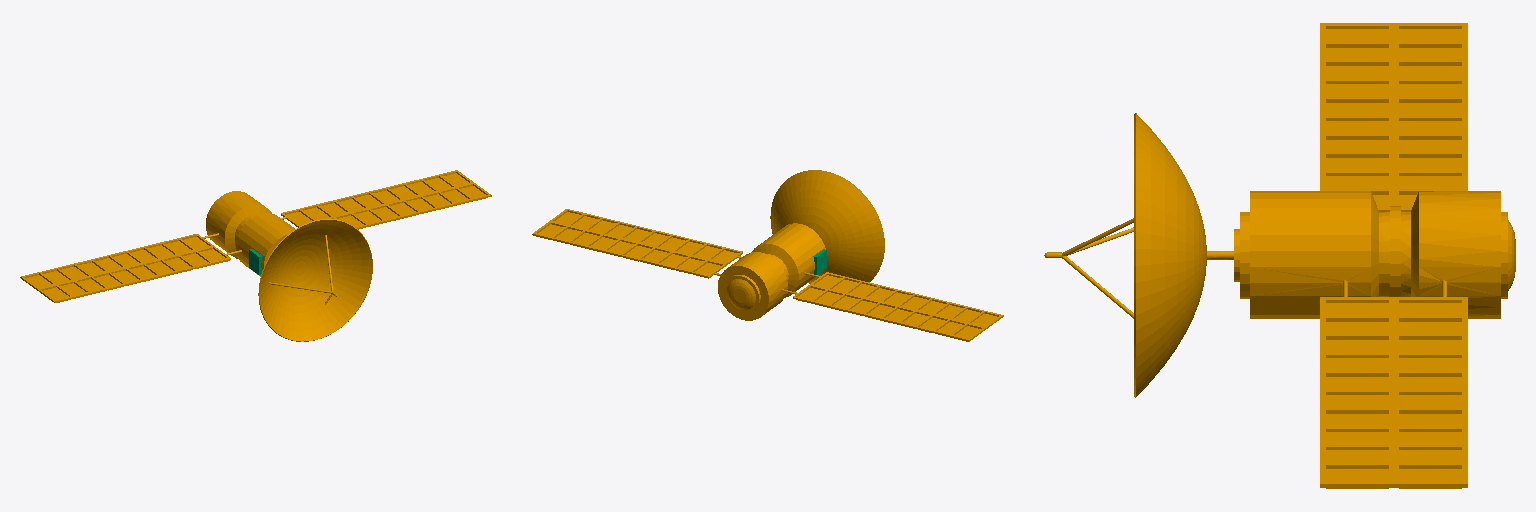
URDF robot description (satellite_14):
<?xml version='1.0' encoding='utf-8'?>
<robot name="satellite_14">
  <link name="base_link">
    <visual>
      <geometry>
        <mesh filename="satellite.stl" />
      </geometry>
    </visual>
    <collision>
      <geometry>
        <mesh filename="satellite.stl" />
      </geometry>
    </collision>
  </link>
  <link name="satellite_14_mount" />
  <joint name="satellite_mount_fixed" type="fixed">
    <parent link="base_link" />
    <child link="satellite_14_mount" />
    <origin xyz="-0.47098720948629275 -0.2859545646737885 0.0007778720686670624" rpy="0.005423569964189135 -1.5707963267948966 0.0" />
  </joint>
  <link name="mount_support">
    <visual>
      <geometry>
        <mesh filename="mount_support.stl" />
      </geometry>
    </visual>
    <collision>
      <geometry>
        <mesh filename="mount_support.stl" />
      </geometry>
    </collision>
  </link>
  <joint name="support_fixed" type="fixed">
    <parent link="satellite_14_mount" />
    <child link="mount_support" />
    <origin xyz="0 0 0" rpy="0 0 0" />
  </joint>
</robot>

--- Render facts (derived) ---
The picture shows the robot from 3 angles, left to right: view 1: azimuth 30°, elevation 25°; view 2: azimuth 150°, elevation 25°; view 3: azimuth 270°, elevation 25°; orthographic projection.
Model satellite_14 with 3 links and 2 joints (2 fixed), rooted at base_link, posed every joint at zero.
Links seen in each view (by area): view 1: base_link; view 2: base_link; view 3: base_link.
Boxes of the visible links, x1,y1,x2,y2 form: base_link: (20,170,491,341); base_link: (532,170,1003,341); base_link: (1044,23,1515,488).
Size in the robot's own frame: 8 by 3.46 by 2.1 metres.
2 mesh visuals loaded from 2 distinct referenced files (2 binary STL).
